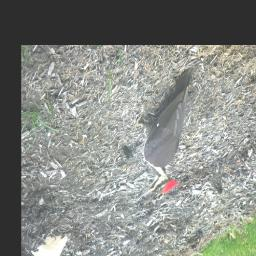Woodpecker: (131, 68, 198, 201)
